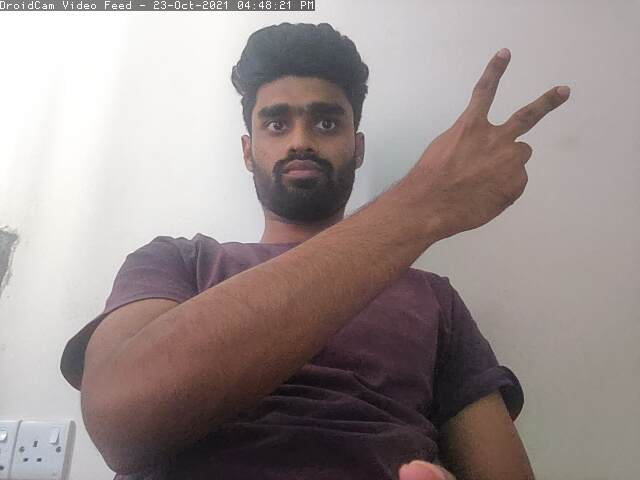Victory: (391, 43, 574, 233)
